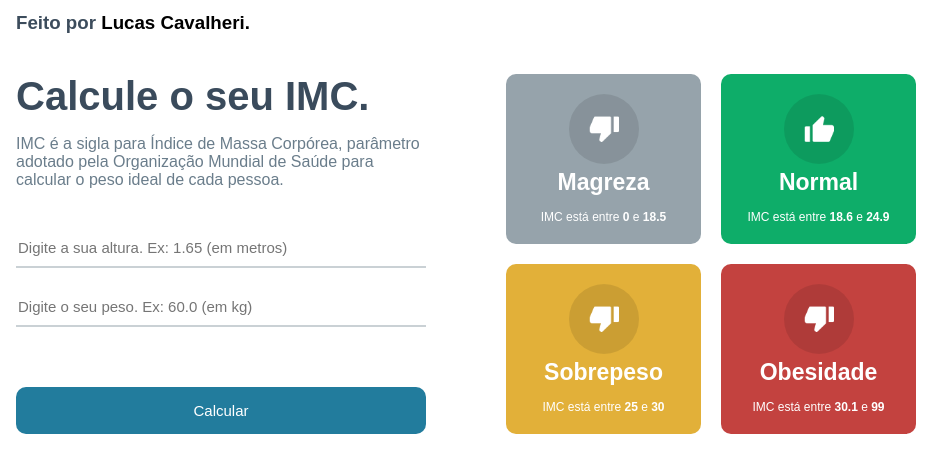
Test case: Testa o App › Testa se o usuário digitar sem colocar vírgula, ela é colocada automaticamente
In the number field with test id "input-height": (221, 249) 16,229 -> 426,268, type "165"
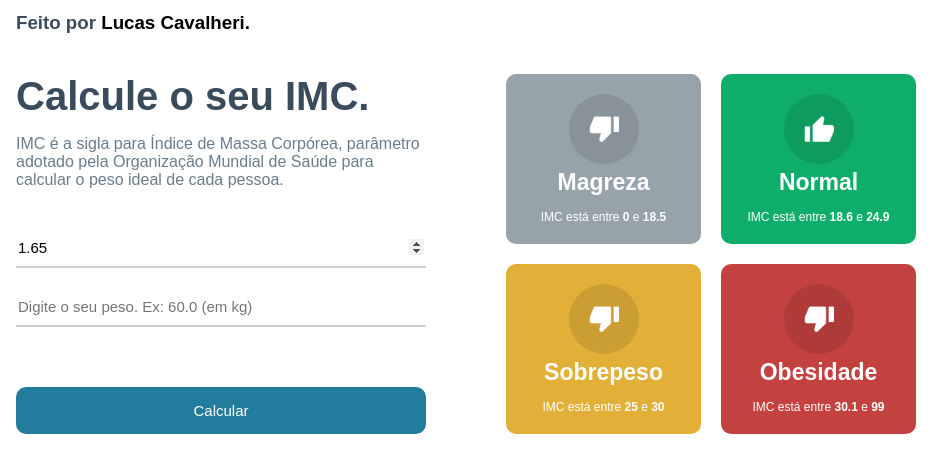
Check: the number field with test id "input-height" holds "1.65", box 16,229 -> 426,268
In the number field with test id "input-weight": (221, 308) 16,288 -> 426,327, type "6040"
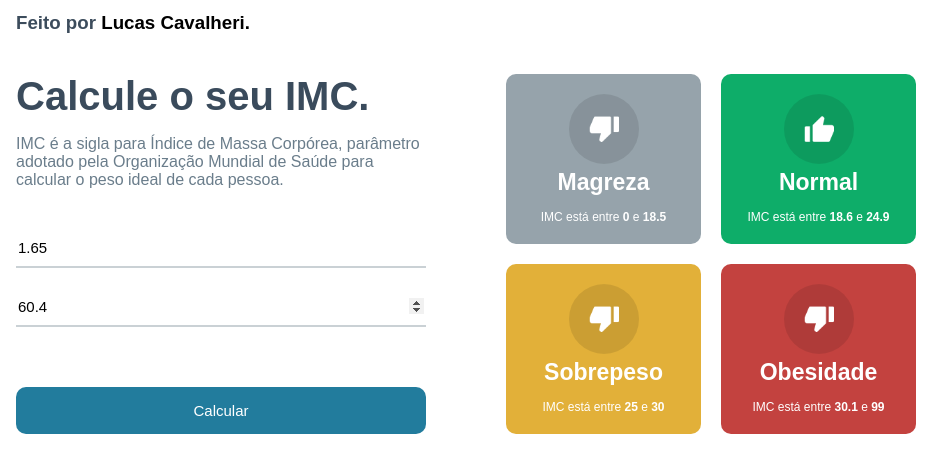
Check: the number field with test id "input-weight" holds "60.4", box 16,288 -> 426,327
